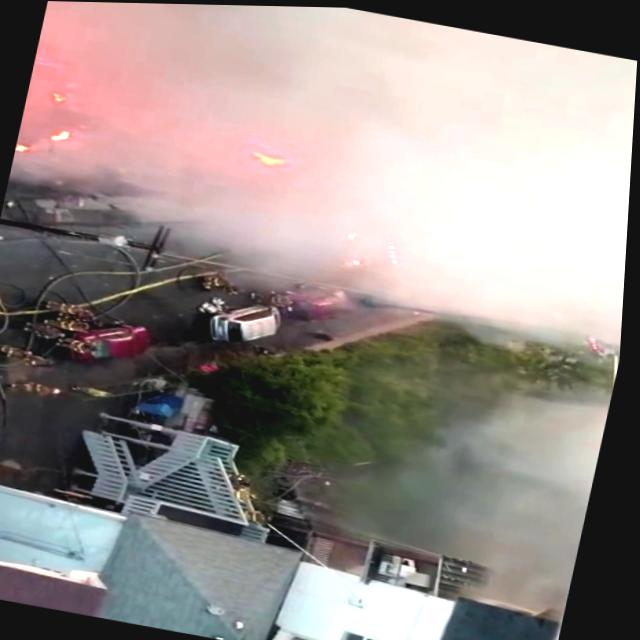smoke: (398, 23, 639, 294)
